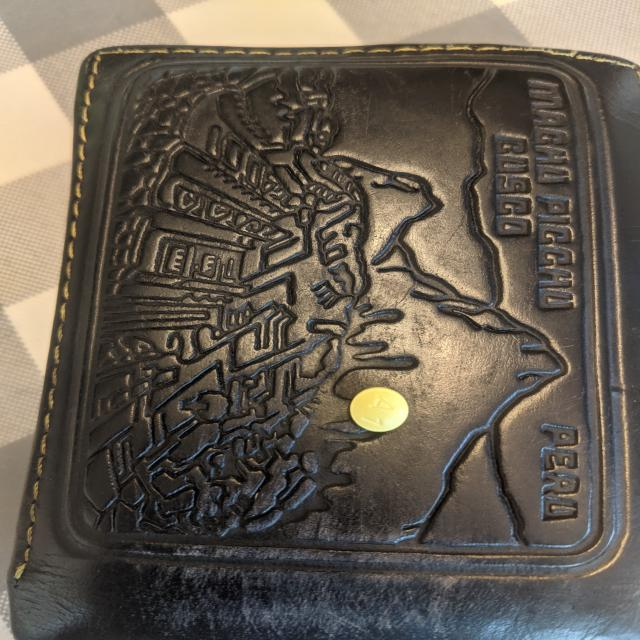non-organic waste: (348, 385, 411, 433)
